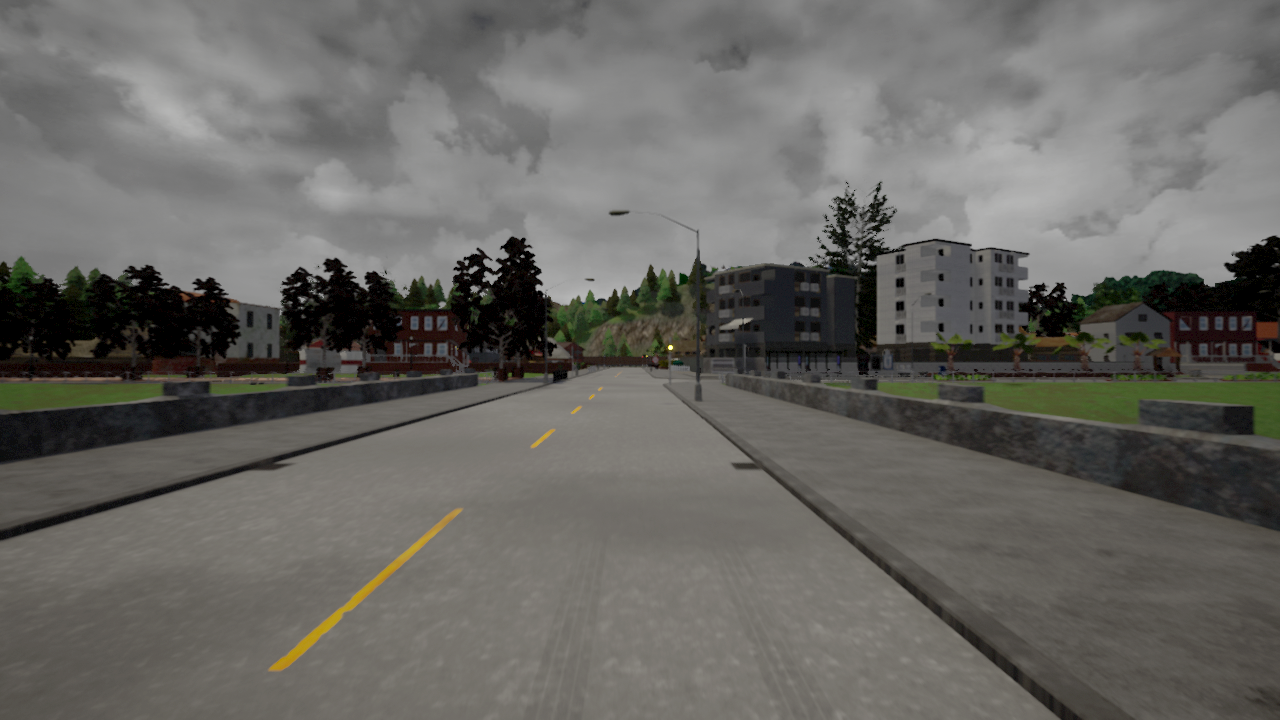yellow: (667, 340, 674, 357)
